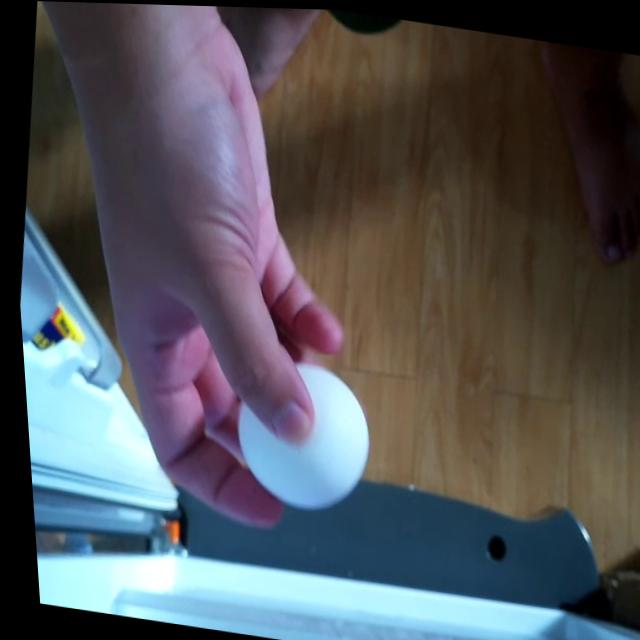egg: (218, 348, 374, 516)
